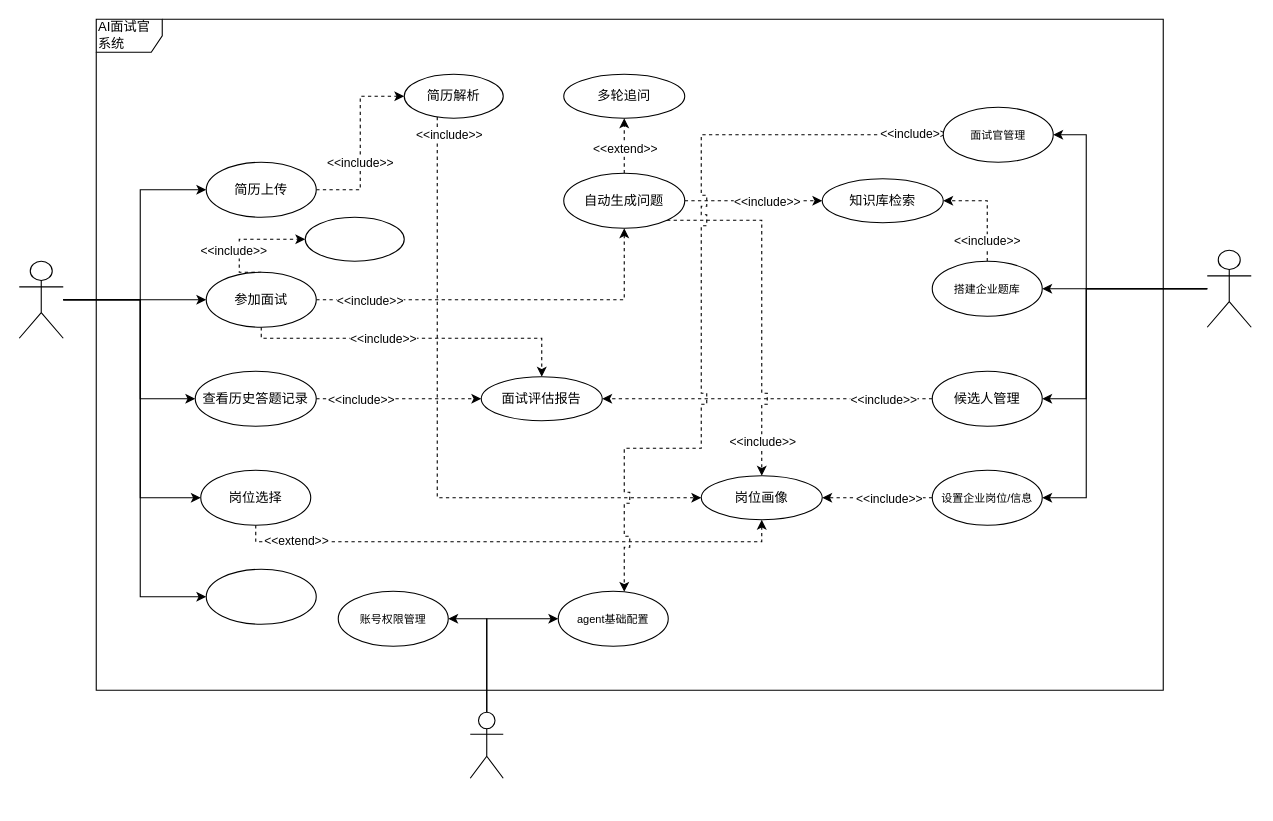
The diagram is 1273 pixels wide and 821 high, and some of its shapes have lost their labels. The shapes that lost their labels are listed below. From the top down, each one's centre as x and y in pixels, then its label:
point (354, 238): 语音/文字面试
point (40, 299): 学生
point (1228, 288): HR/教师
point (260, 596): 个人信息修改
point (486, 744): 管理员
